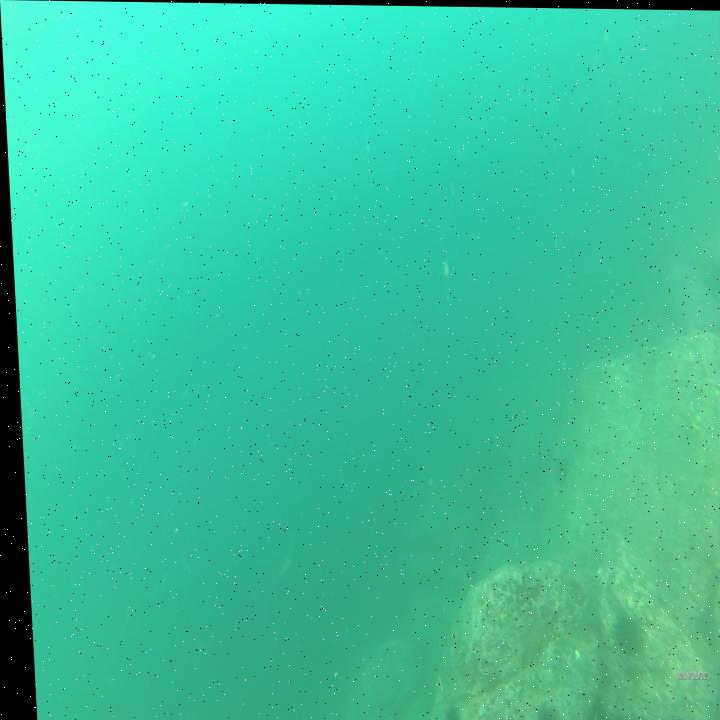echinus: (606, 603, 640, 663), (524, 697, 556, 720), (548, 449, 567, 483), (436, 702, 454, 720)
